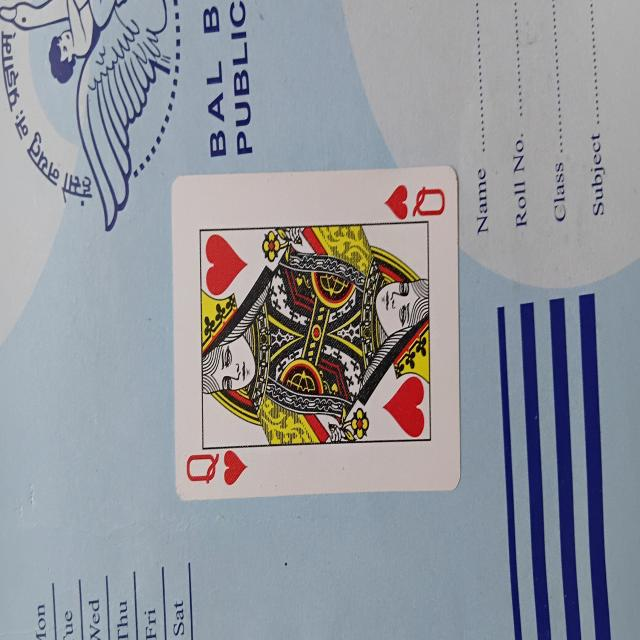QH: (171, 157, 460, 502)
